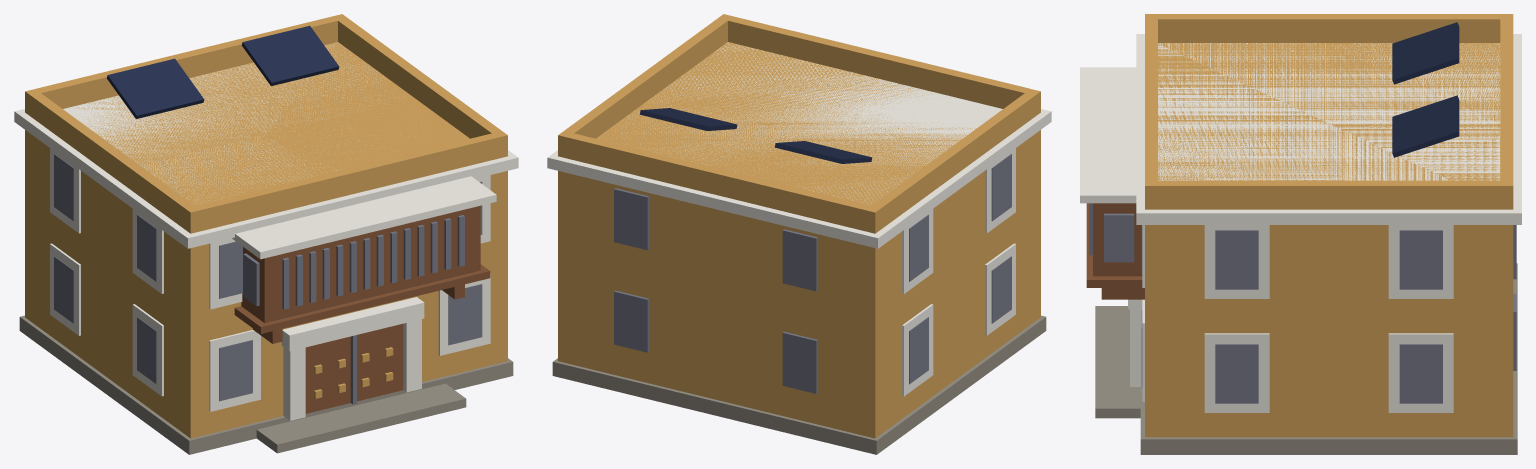
File: house-1x1-2f-quincha-a-solar.glb
The picture shows the model from 3 angles, left to right: view 1: azimuth 30°, elevation 25°; view 2: azimuth 150°, elevation 25°; view 3: azimuth 270°, elevation 25°; orthographic projection. The views are drawn at different scales.
Parts seen in each view (by area): view 1: house-1x1-2f-quincha-a-solar; view 2: house-1x1-2f-quincha-a-solar; view 3: house-1x1-2f-quincha-a-solar.
Boxes of the visible parts, x1,y1,x2,y2 form: house-1x1-2f-quincha-a-solar: (14,14,518,454); house-1x1-2f-quincha-a-solar: (547,14,1051,454); house-1x1-2f-quincha-a-solar: (1080,14,1521,454).
Bounding box in the file's own units: 0.98 × 0.7386 × 1.02.
1 material, 1 textured.
